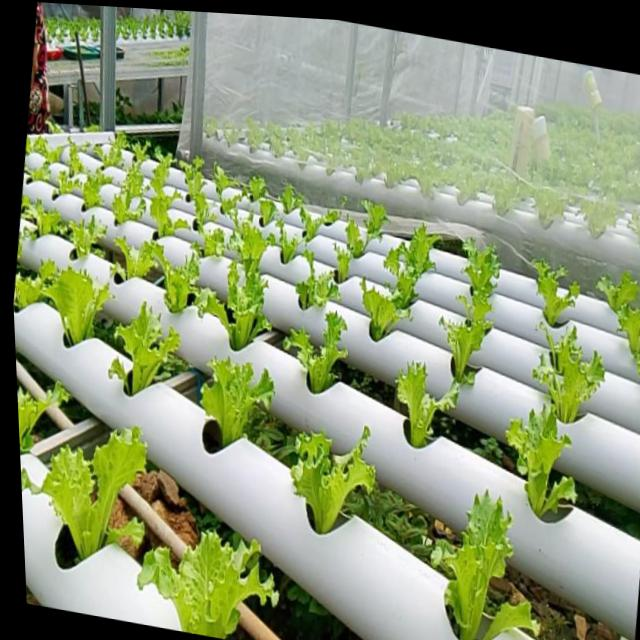Baby: (21, 423, 147, 553), (139, 526, 278, 637), (430, 489, 508, 640), (289, 426, 373, 532), (437, 241, 496, 391), (501, 406, 571, 517), (199, 357, 273, 452), (529, 328, 599, 424), (114, 302, 179, 395), (43, 261, 113, 343), (394, 362, 456, 448), (282, 312, 345, 393), (142, 241, 207, 317), (381, 226, 437, 310), (283, 251, 338, 311), (357, 280, 408, 342), (109, 144, 148, 224), (528, 263, 575, 328), (226, 215, 273, 278), (610, 303, 640, 378), (80, 167, 108, 208), (91, 132, 124, 166), (217, 187, 240, 220), (65, 138, 82, 175), (201, 228, 223, 256)
